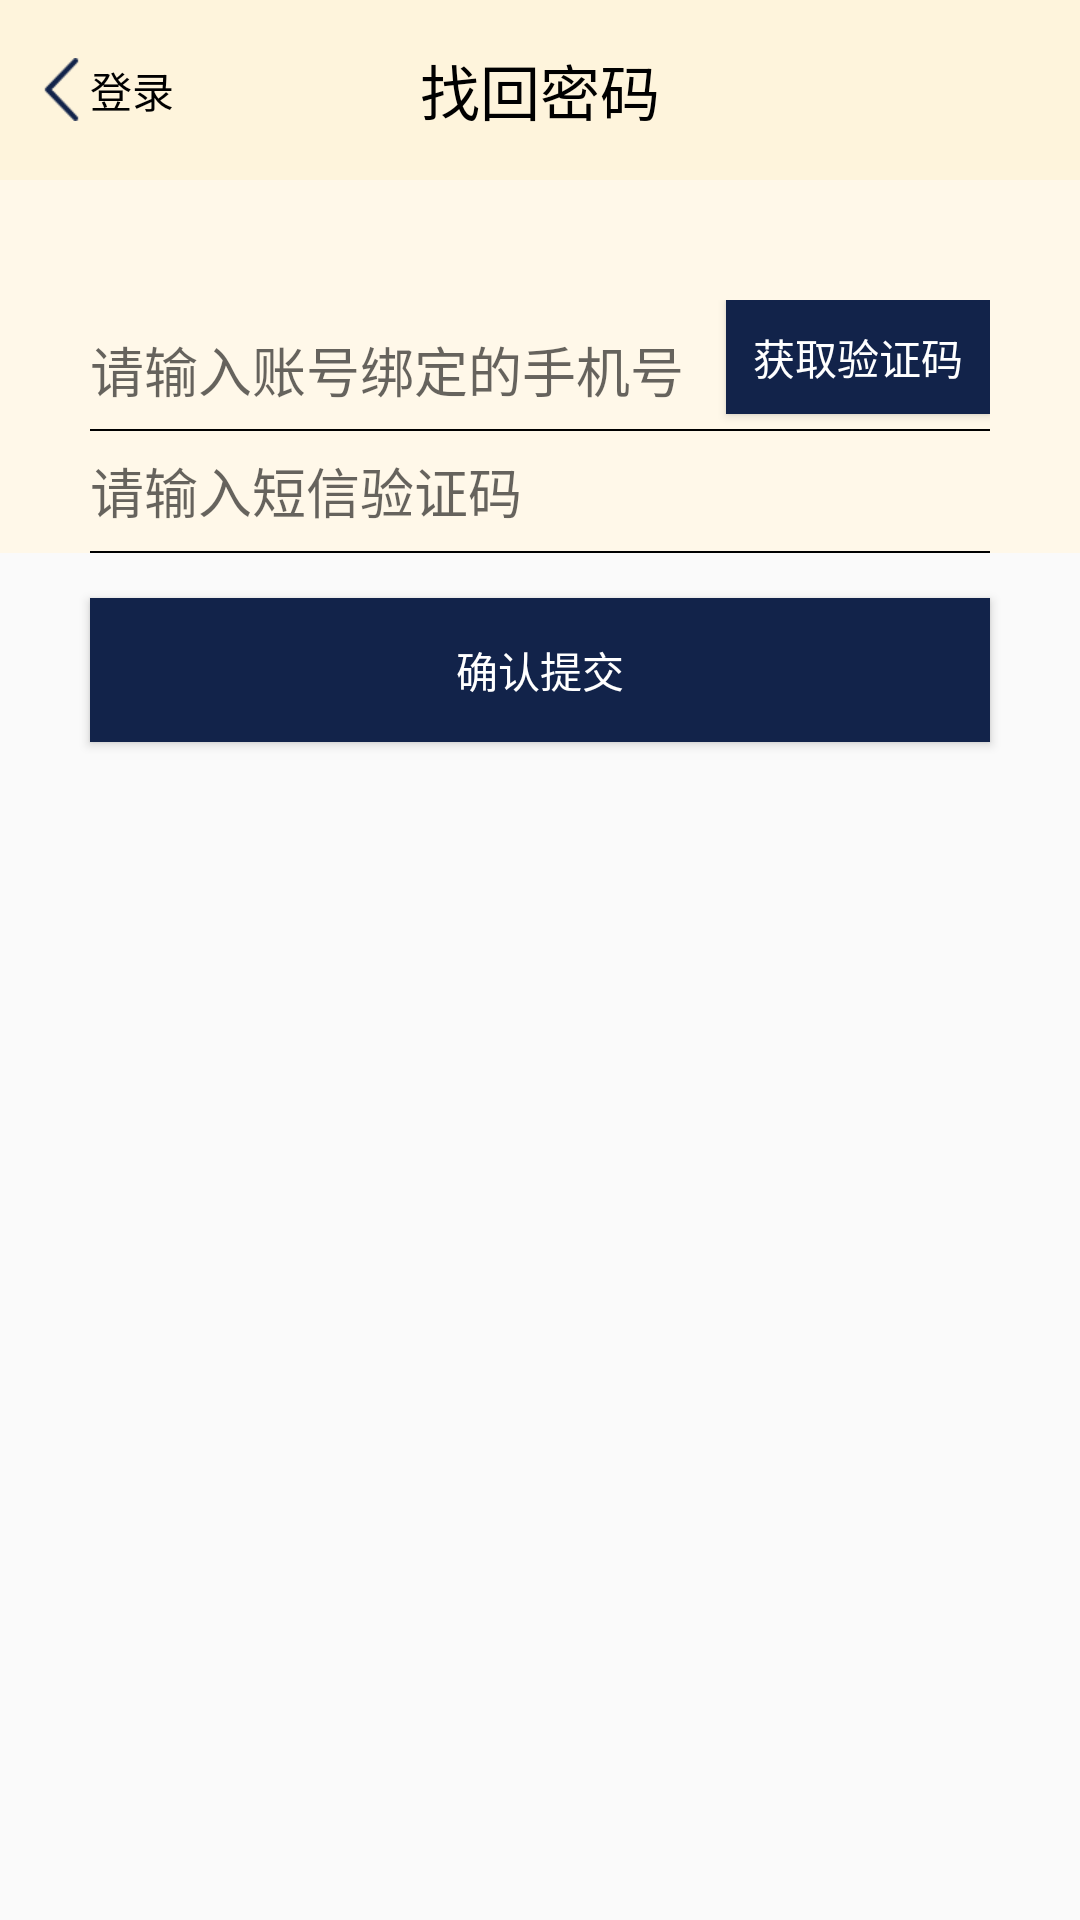

Icon click points for this 1080px x 1920px phone screenshot, format (x=x, y=y):
back: (x=61, y=89)
